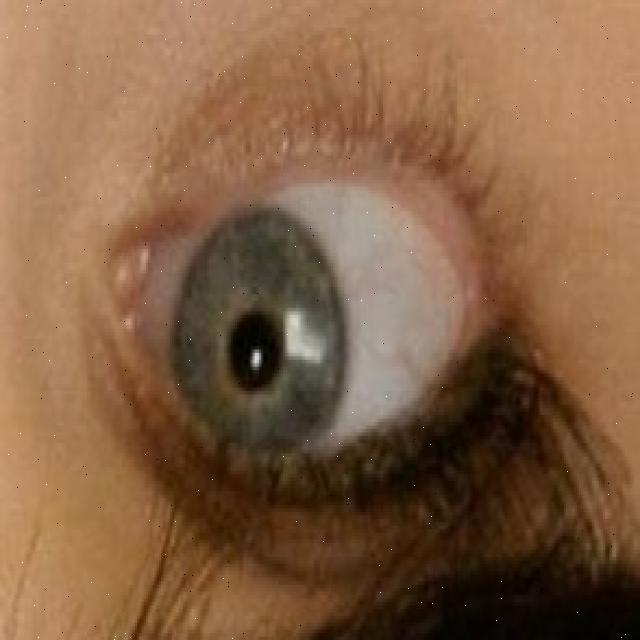Normal: (170, 197, 348, 478)
